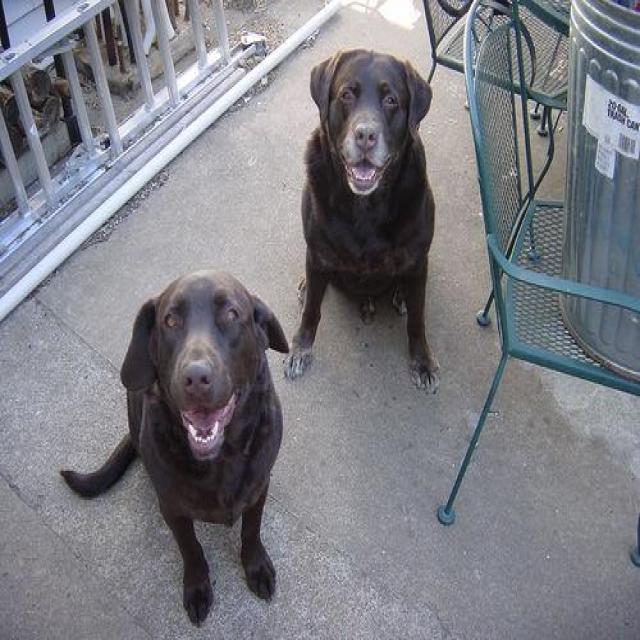sitting: (57, 266, 305, 627), (278, 44, 457, 399)
